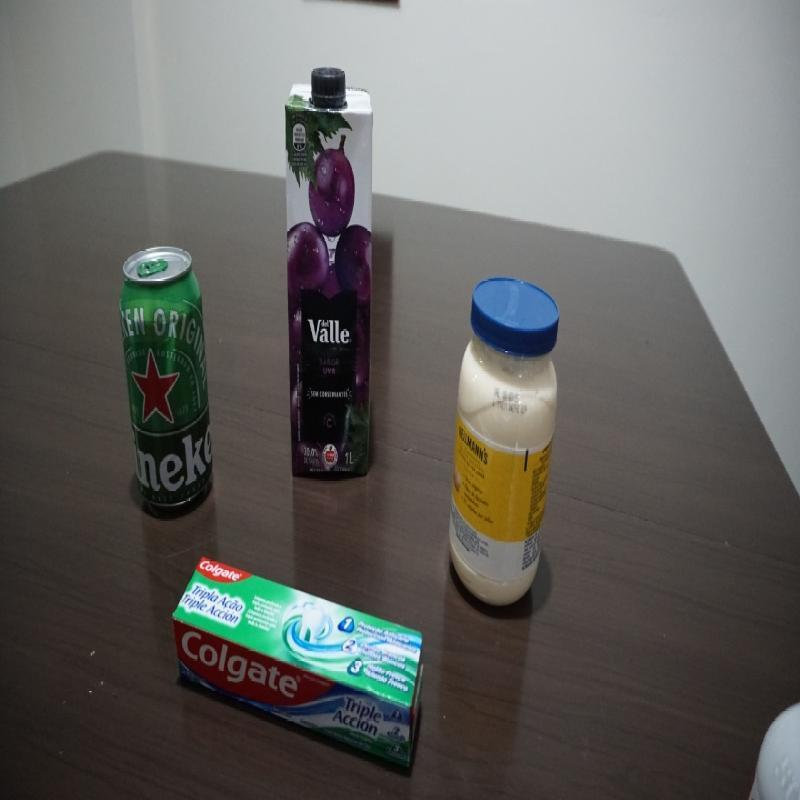Beer can: (114, 242, 216, 516)
Mayonnaise: (446, 274, 561, 610)
Toothpaste: (171, 554, 428, 768)
